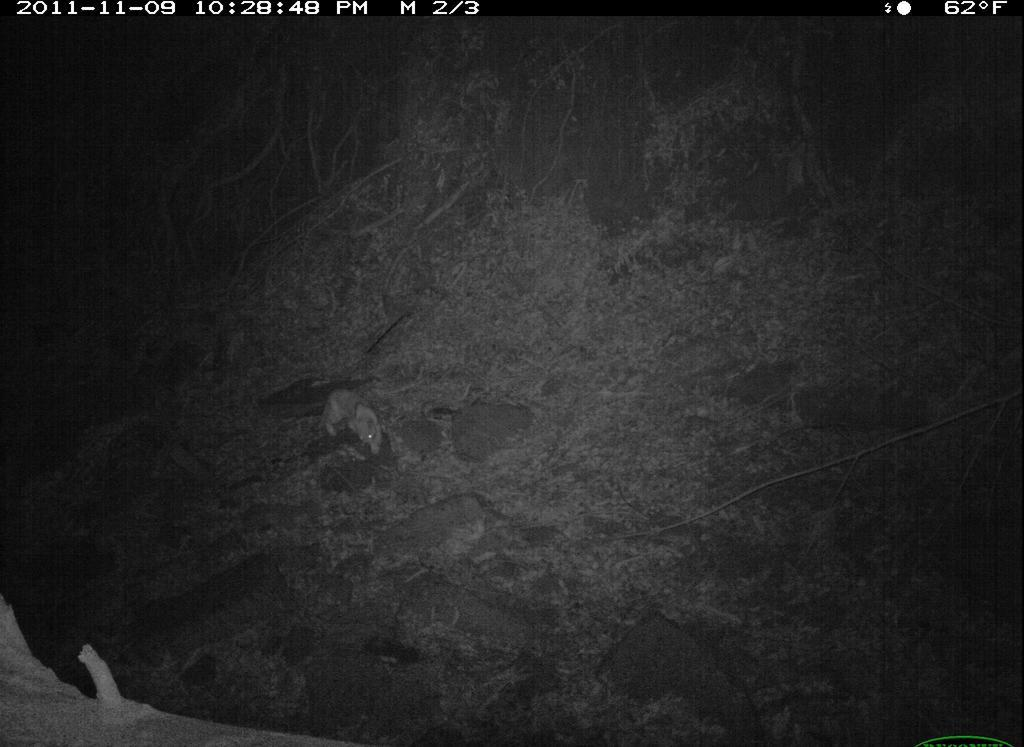cat: (317, 381, 401, 469)
